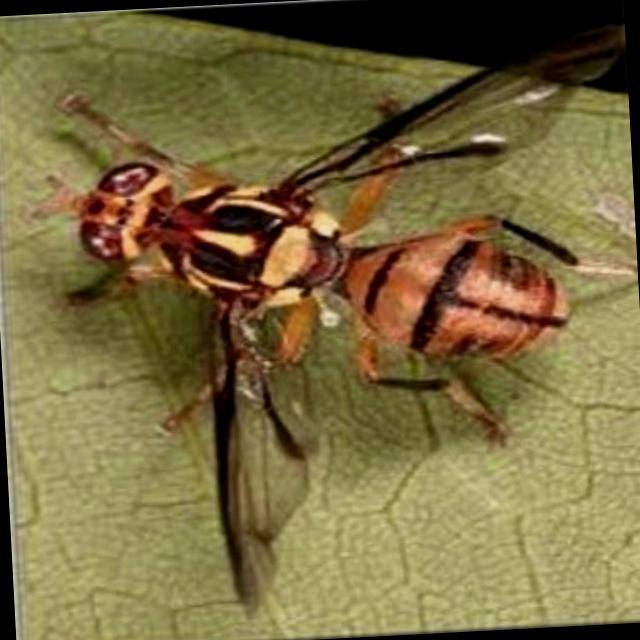melon fly: (25, 0, 640, 624)
